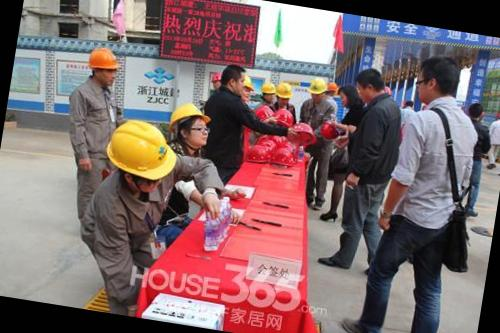no_helmet: (413, 52, 465, 109), (216, 60, 255, 100), (351, 63, 384, 104), (335, 83, 364, 110), (464, 97, 488, 127)
